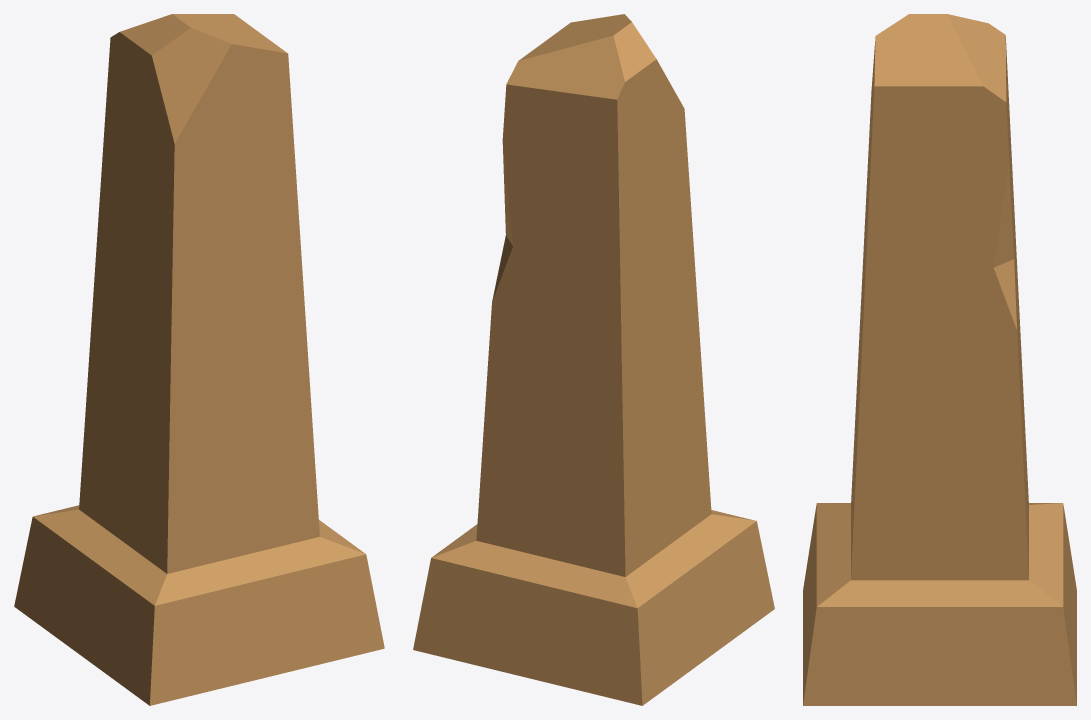
Rendered from egypt_egypt-obelisk-old-broken.fbx.
3 renders of one model, left to right at view 1: azimuth 30°, elevation 25°; view 2: azimuth 150°, elevation 25°; view 3: azimuth 270°, elevation 25°, orthographic. The views are drawn at different scales.
Parts seen in each view (by area): view 1: egypt_egypt_obelisk_old_broken; view 2: egypt_egypt_obelisk_old_broken; view 3: egypt_egypt_obelisk_old_broken.
Boxes of the visible parts, x1,y1,x2,y2 form: egypt_egypt_obelisk_old_broken: (14,14,384,705); egypt_egypt_obelisk_old_broken: (413,14,774,705); egypt_egypt_obelisk_old_broken: (803,14,1076,705).
Size of the model in its own units: 79.76 by 200 by 79.76.
